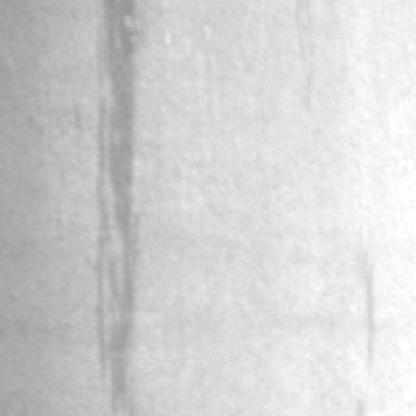inclusion: (92, 0, 150, 406), (347, 244, 389, 376)
